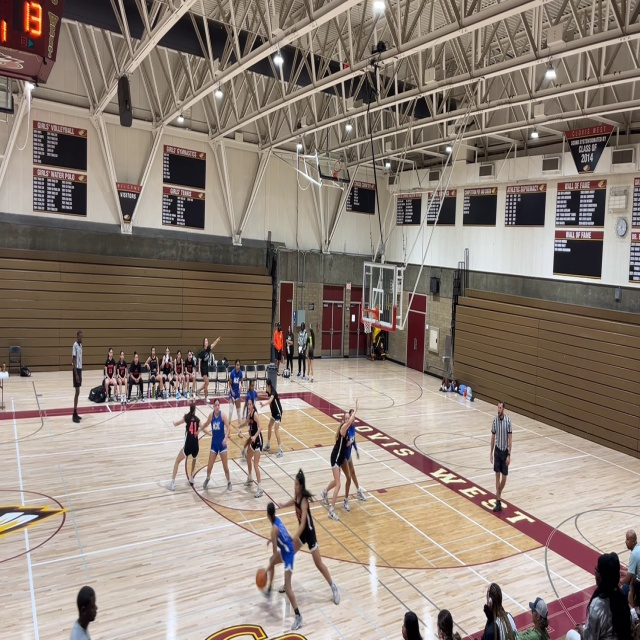Basketball: (255, 568, 268, 589)
